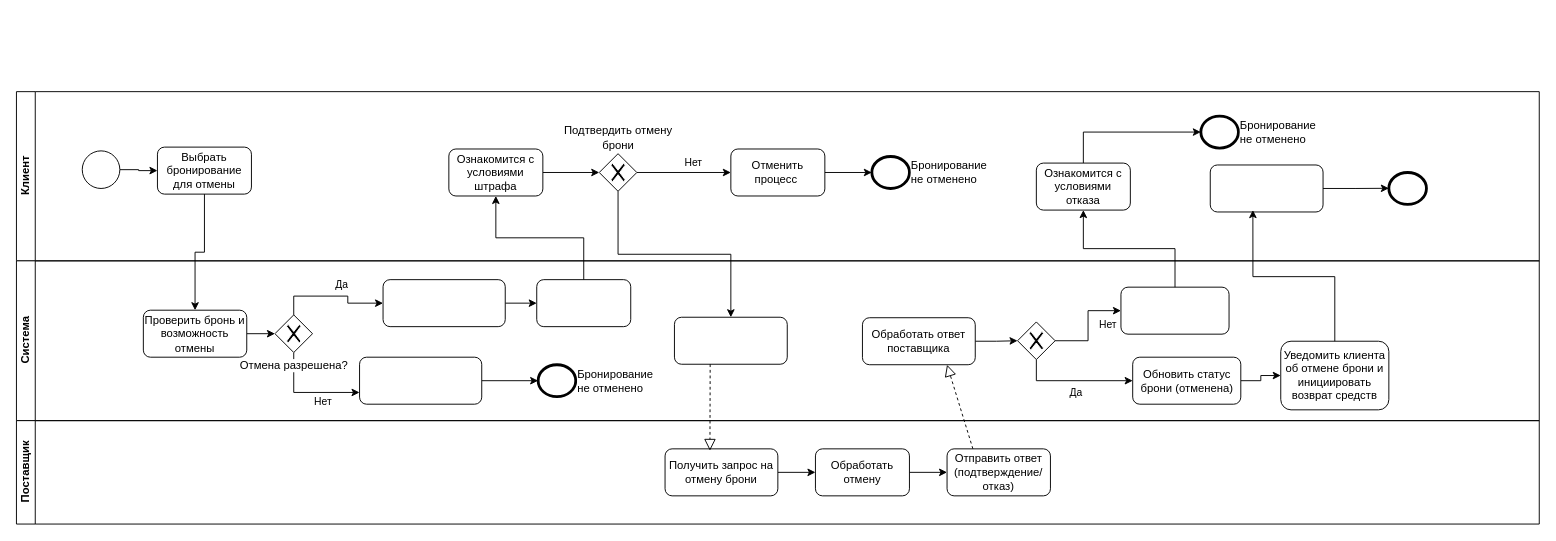
Some shapes in this 1556 by 541 pixel diagram are drawn without their labels. The shapes that lost their labels are listed below. From the top down, each one's centre as x and y in pixels, then its label:
the point at 100,169: Клиент нажал "Отменить бронирование"
the point at 1266,188: Ознакомится с отменой бронирования
the point at 1407,188: Бронирование отменено
the point at 443,303: Рассчитать штраф и сумму возврата
the point at 583,303: Показать условия отмены клиенту
the point at 1174,310: Уведомить клиента об отказе поставщика
the point at 730,340: Отправить запрос поставщику на отмену брони
the point at 1036,340: Отмена подтверждена?
the point at 420,380: Показать причину невозможности отмены
